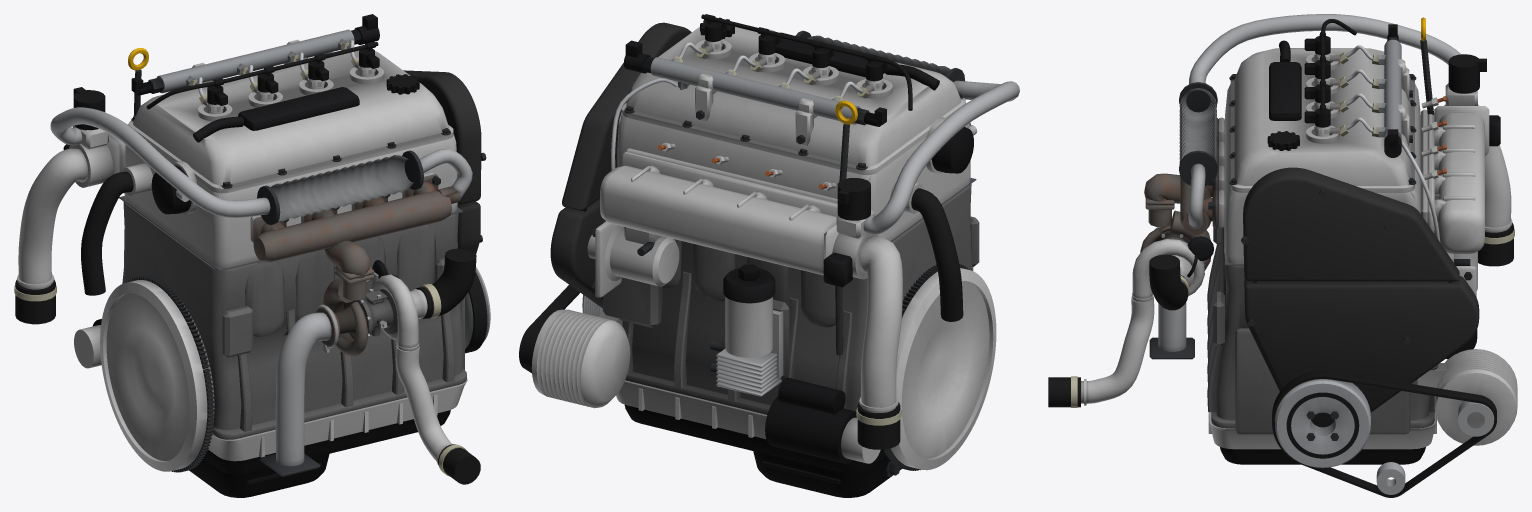
Rendered from engine_diesel-hi-v1.glb.
The picture shows the model from 3 angles, left to right: view 1: azimuth 30°, elevation 25°; view 2: azimuth 150°, elevation 25°; view 3: azimuth 270°, elevation 25°; orthographic projection. The views are drawn at different scales.
Parts seen in each view (by area): view 1: block_geo, valve_cover_geo, flywheel_geo, egr_cooler_geo, oil_pan_geo, exhaust_manifold_geo, head_geo, intercooler_pipe_in_geo, downpipe_geo, timing_cover_geo, common_rail_geo, intercooler_pipe_out_geo (+17 smaller); view 2: block_geo, valve_cover_geo, intake_manifold_geo, flywheel_geo, head_geo, oil_pan_geo, timing_cover_geo, intercooler_pipe_in_geo, alternator_geo, oil_filter_geo, starter_geo, common_rail_geo (+13 smaller); view 3: timing_cover_geo, valve_cover_geo, block_geo, egr_cooler_geo, intake_manifold_geo, crank_pulley_geo, alternator_geo, accessory_belt_geo, oil_pan_geo, head_geo, intercooler_pipe_out_geo, intercooler_pipe_in_geo (+12 smaller).
Part boxes in pixels (box(x1,y1,x2,y2)): block_geo: box(122, 202, 466, 439); valve_cover_geo: box(128, 50, 453, 193); flywheel_geo: box(100, 275, 214, 472); egr_cooler_geo: box(50, 107, 472, 225); oil_pan_geo: box(189, 378, 467, 497); exhaust_manifold_geo: box(253, 174, 460, 279); head_geo: box(122, 134, 457, 267); intercooler_pipe_in_geo: box(14, 148, 88, 324); downpipe_geo: box(260, 312, 331, 476); timing_cover_geo: box(403, 70, 486, 253); common_rail_geo: box(131, 14, 379, 95); intercooler_pipe_out_geo: box(395, 345, 480, 484); block_geo: box(603, 184, 979, 414); valve_cover_geo: box(621, 17, 965, 174); intake_manifold_geo: box(600, 152, 878, 287); flywheel_geo: box(883, 264, 996, 470); head_geo: box(617, 112, 970, 241); oil_pan_geo: box(616, 380, 901, 497); timing_cover_geo: box(550, 22, 691, 308); intercooler_pipe_in_geo: box(856, 236, 902, 449); alternator_geo: box(531, 309, 630, 408); oil_filter_geo: box(710, 264, 783, 396); starter_geo: box(765, 377, 880, 463); common_rail_geo: box(623, 40, 886, 145); timing_cover_geo: box(1241, 167, 1479, 427); valve_cover_geo: box(1229, 40, 1416, 192); block_geo: box(1207, 226, 1438, 434); egr_cooler_geo: box(1179, 14, 1460, 227); intake_manifold_geo: box(1427, 104, 1500, 253); crank_pulley_geo: box(1275, 379, 1370, 467); alternator_geo: box(1417, 349, 1517, 445); accessory_belt_geo: box(1272, 370, 1496, 497); oil_pan_geo: box(1208, 412, 1436, 464); head_geo: box(1218, 84, 1428, 264); intercooler_pipe_out_geo: box(1048, 296, 1154, 407); intercooler_pipe_in_geo: box(1478, 145, 1514, 266).
Bounding box in the file's own units: 0.635 × 0.6425 × 0.723.
25 materials, 5 textured.
